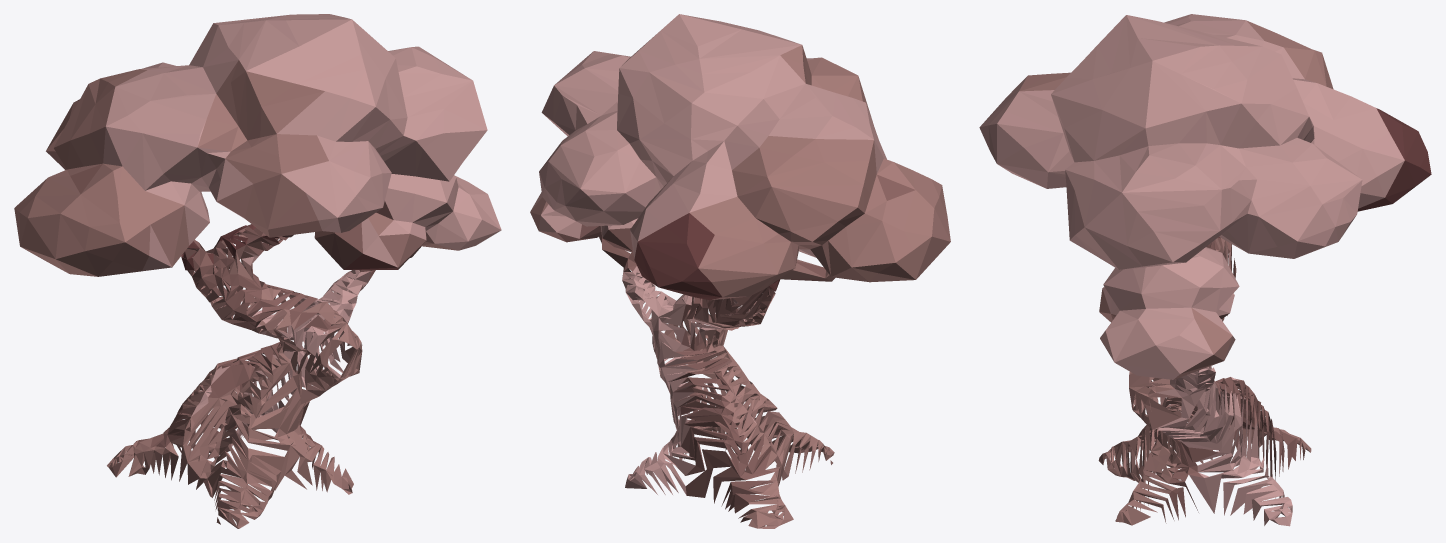
The model's file is tree_bonsai.glb.
3 renders of one model, left to right at view 1: azimuth 30°, elevation 25°; view 2: azimuth 150°, elevation 25°; view 3: azimuth 270°, elevation 25°, orthographic. The views are drawn at different scales.
Parts seen in each view (by area): view 1: geometry_0; view 2: geometry_0; view 3: geometry_0.
Boxes of the visible parts, box(x1,y1,x2,y2) form: geometry_0: box(14, 14, 501, 528); geometry_0: box(530, 14, 950, 528); geometry_0: box(979, 14, 1431, 526).
Bounding box in the file's own units: 1.98 × 1.99 × 1.73.
